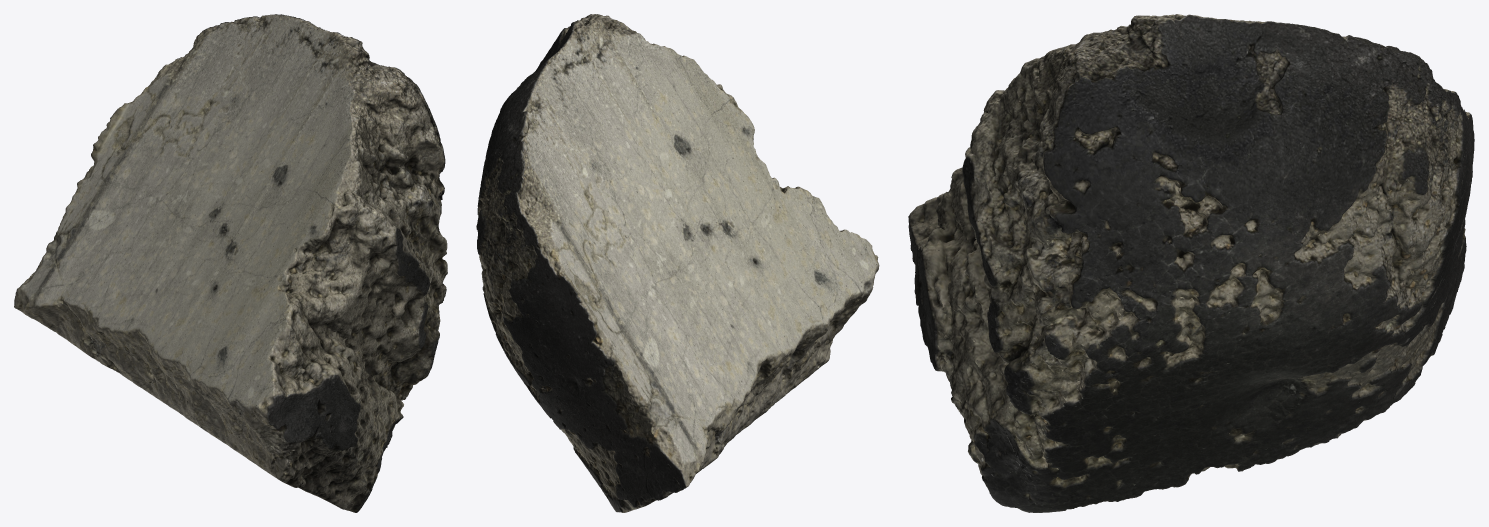
Rendered from stone.glb.
The picture shows the model from 3 angles, left to right: view 1: azimuth 30°, elevation 25°; view 2: azimuth 150°, elevation 25°; view 3: azimuth 270°, elevation 25°; orthographic projection. The views are drawn at different scales.
Visible parts, largest first — view 1: EET79001-2_SFM_Web-Resolution-Model_Coordinate-Registered.ob; view 2: EET79001-2_SFM_Web-Resolution-Model_Coordinate-Registered.ob; view 3: EET79001-2_SFM_Web-Resolution-Model_Coordinate-Registered.ob.
Part boxes in pixels (x1,y1,x2,y2): EET79001-2_SFM_Web-Resolution-Model_Coordinate-Registered.ob: (14,14,447,512); EET79001-2_SFM_Web-Resolution-Model_Coordinate-Registered.ob: (476,14,879,512); EET79001-2_SFM_Web-Resolution-Model_Coordinate-Registered.ob: (908,14,1474,512).
Size of the model in its own units: 0.0835 by 0.1199 by 0.1166.
1 material, 1 textured.
